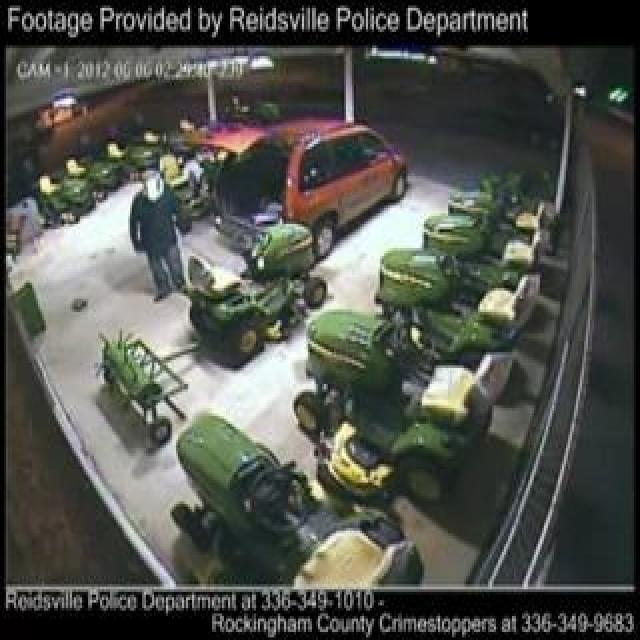thief: (109, 151, 181, 290)
